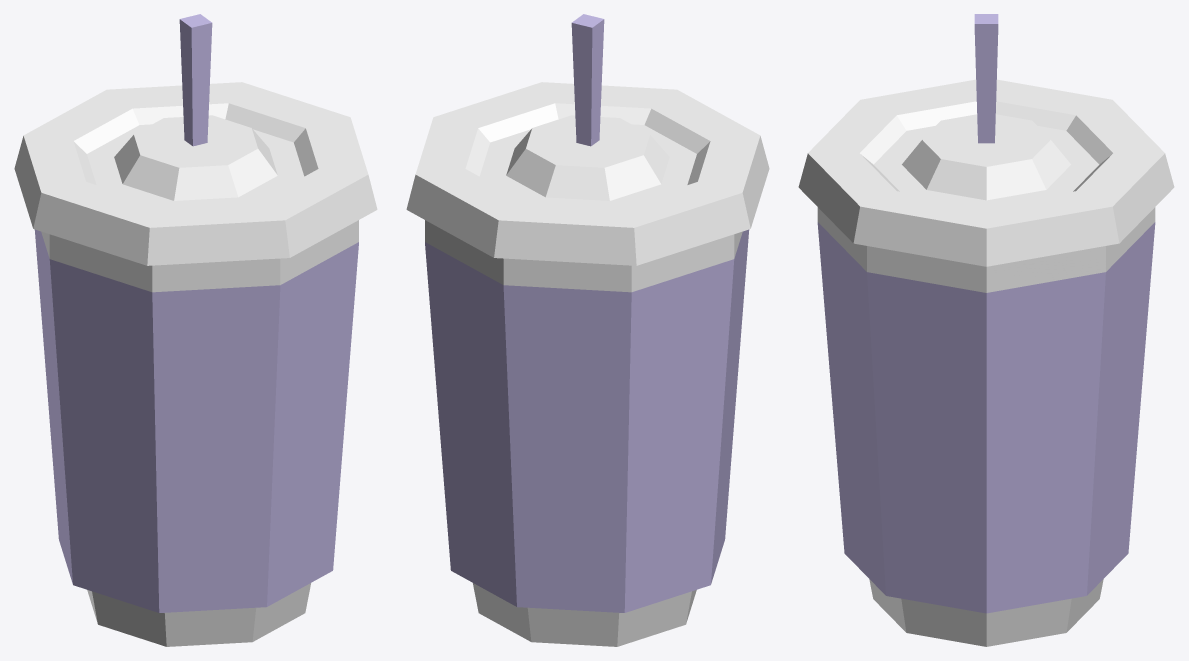
Rendered from soda.glb.
3 renders of one model, left to right at view 1: azimuth 30°, elevation 25°; view 2: azimuth 150°, elevation 25°; view 3: azimuth 270°, elevation 25°, orthographic.
Parts seen in each view (by area): view 1: soda; view 2: soda; view 3: soda.
Part boxes in pixels (bbox=[...]): soda: bbox=[14, 14, 377, 646]; soda: bbox=[406, 14, 769, 646]; soda: bbox=[798, 14, 1174, 646].
Size of the model in its own units: 0.2541 by 0.4324 by 0.2541.
